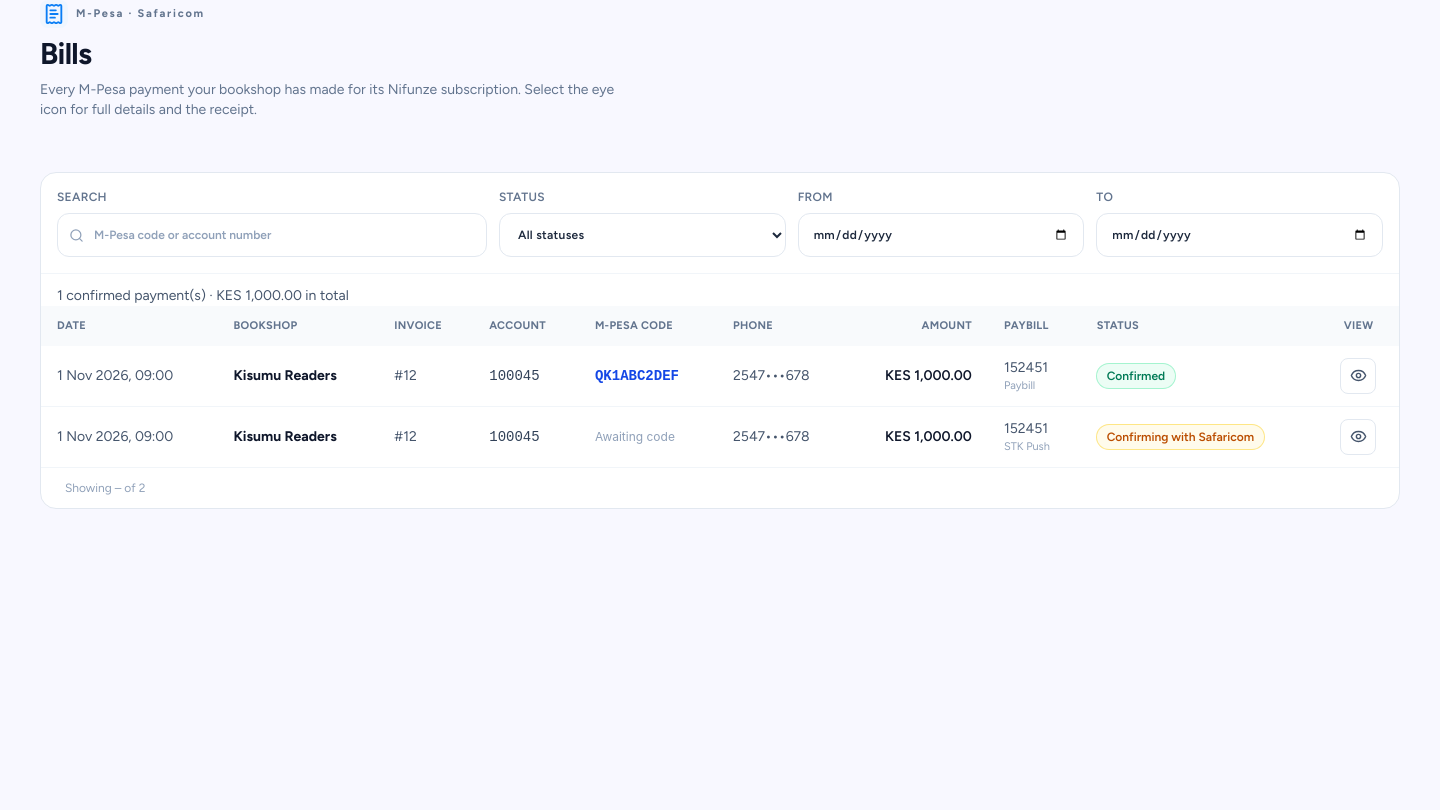
Test: Shop Bills › shows the bookshop payments in the same table with a view icon and receipt for confirmed ones
The width and height of the screenshot is (1440, 810).
Expected: the text "QK1ABC2DEF" is shown, [579, 346, 717, 406]
Expected: the column heading "Date" is shown, [41, 306, 218, 346]
Click the button named "View payment QK1ABC2DEF" at coordinates (1358, 376), box [1340, 358, 1376, 394]
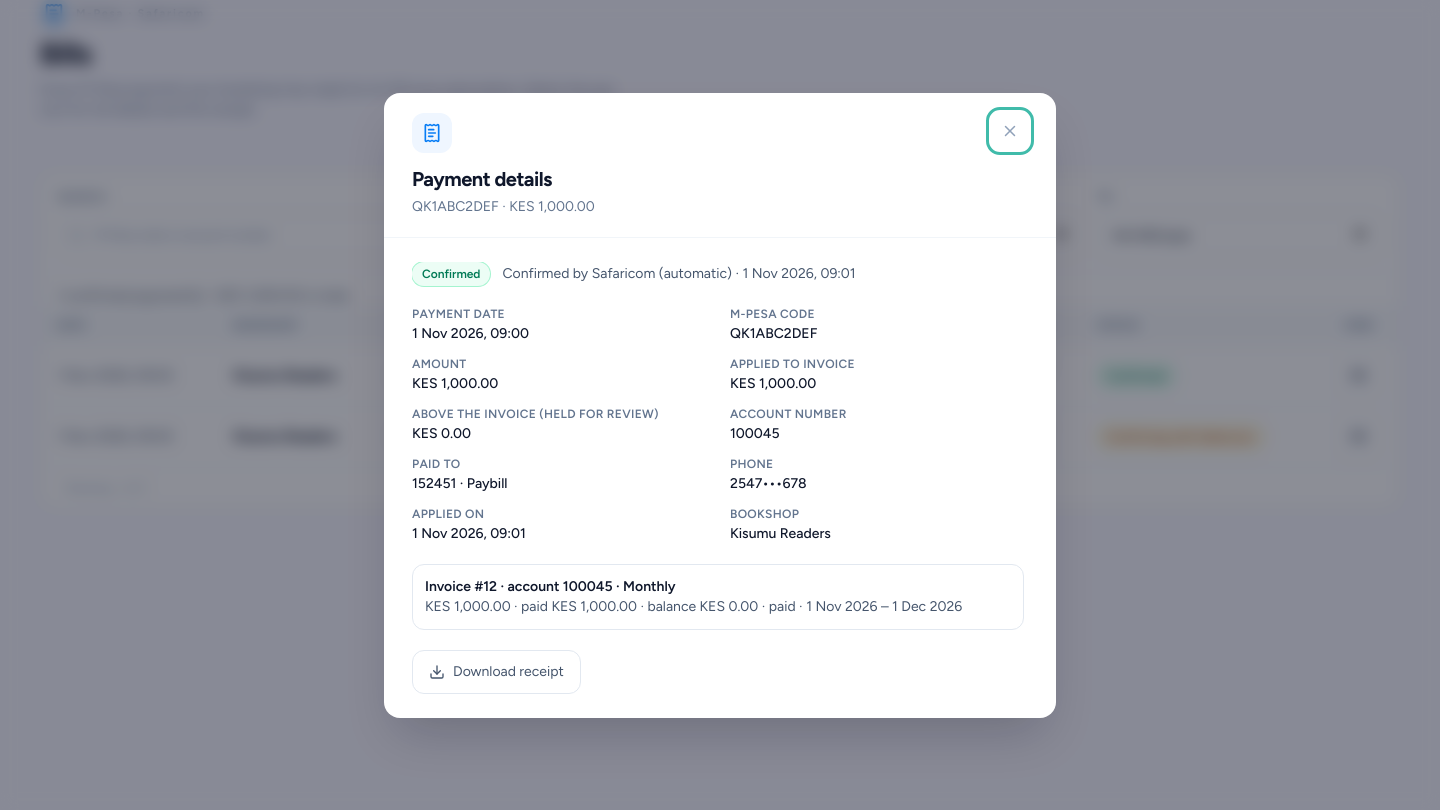
Expected: the text "Confirmed by Safaricom (automatic) · 1 Nov 2026, 09:01" is shown, [502, 264, 856, 284]
Expected: the button "Download receipt" is shown, [412, 650, 581, 694]
